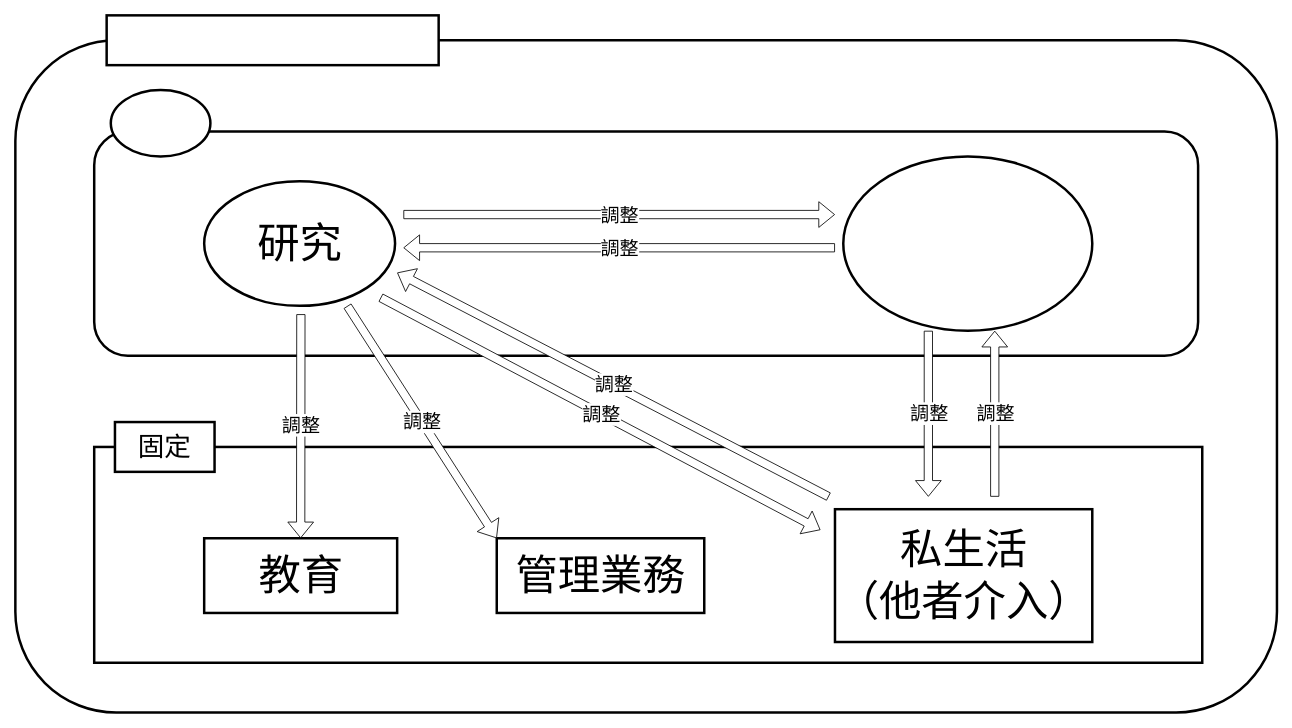
Some shapes in this 1292 by 728 pixel diagram are drawn without their labels. The centre of each missing label's shape, as x and y in pixels:
専門業務型裁量労働制: [272,40]
柔軟: [160,122]
私生活 （自己完結）: [967,243]
